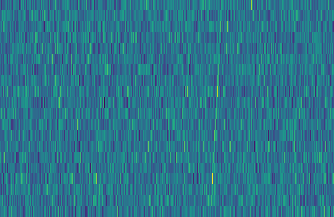signal: (206, 0, 227, 217)
